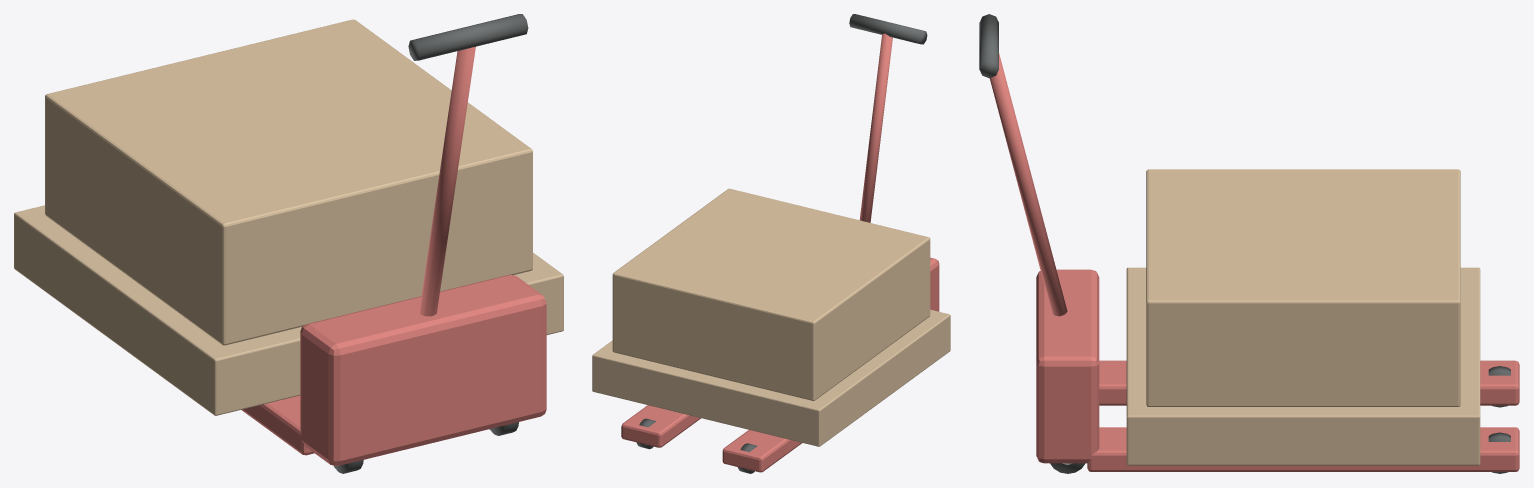
File: Gear20.fbx
The picture shows the model from 3 angles, left to right: view 1: azimuth 30°, elevation 25°; view 2: azimuth 150°, elevation 25°; view 3: azimuth 270°, elevation 25°; orthographic projection. The views are drawn at different scales.
Visible parts, largest first — view 1: Gear20_V10_Cork, Gear20_V1_Crimson, Gear20_V10_Oak, Gear20_V1_Rubber; view 2: Gear20_V10_Cork, Gear20_V10_Oak, Gear20_V1_Crimson, Gear20_V1_Rubber; view 3: Gear20_V10_Cork, Gear20_V10_Oak, Gear20_V1_Crimson, Gear20_V1_Rubber, Gear20_V1_Tyre.
Part boxes in pixels (x1,y1,x2,y2): Gear20_V10_Cork: [45, 19, 532, 345]; Gear20_V1_Crimson: [241, 46, 546, 465]; Gear20_V10_Oak: [14, 205, 563, 415]; Gear20_V1_Rubber: [408, 14, 528, 60]; Gear20_V10_Cork: [612, 188, 930, 400]; Gear20_V10_Oak: [592, 309, 950, 446]; Gear20_V1_Crimson: [621, 33, 939, 472]; Gear20_V1_Rubber: [849, 14, 927, 44]; Gear20_V10_Cork: [1146, 169, 1460, 406]; Gear20_V10_Oak: [1126, 267, 1480, 465]; Gear20_V1_Crimson: [989, 53, 1519, 471]; Gear20_V1_Rubber: [979, 14, 998, 78]; Gear20_V1_Tyre: [1050, 366, 1510, 473].
Size of the model in its own units: 90 by 113 by 137.
